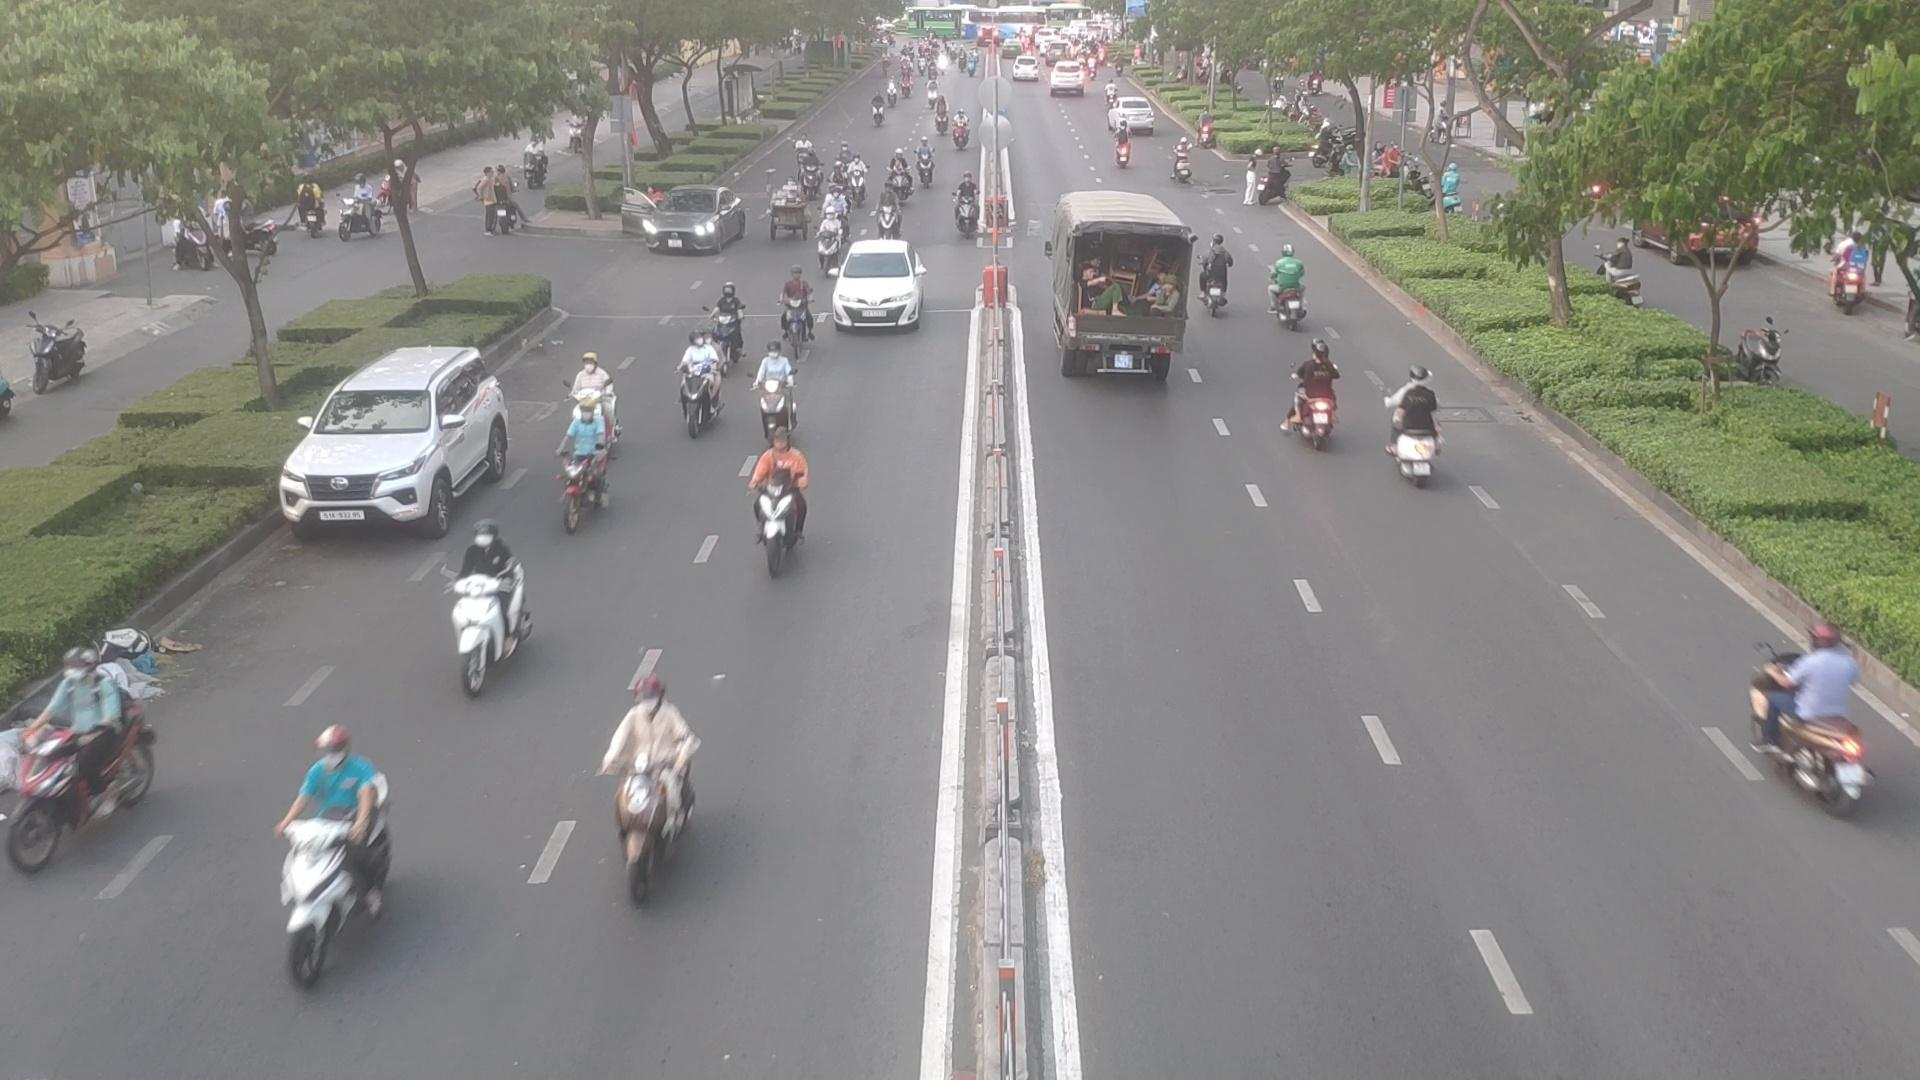car: (287, 349, 522, 541), (621, 193, 752, 260), (833, 245, 928, 336)
motorbike: (0, 638, 152, 864), (261, 731, 398, 976), (1745, 622, 1888, 814), (599, 680, 705, 897), (430, 522, 539, 688), (740, 438, 814, 571), (555, 397, 620, 527), (1383, 371, 1451, 483), (1275, 343, 1342, 440), (1261, 252, 1321, 336), (676, 342, 729, 436), (1196, 229, 1245, 316), (699, 284, 750, 360), (782, 274, 825, 359), (566, 351, 622, 406), (816, 216, 851, 268), (953, 189, 986, 241), (1167, 141, 1199, 186), (873, 198, 903, 241), (884, 158, 913, 202), (800, 160, 828, 199), (916, 144, 942, 187), (1106, 135, 1135, 171)
